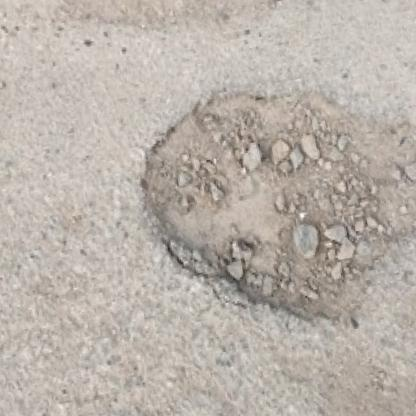pothole: (123, 52, 416, 359)
